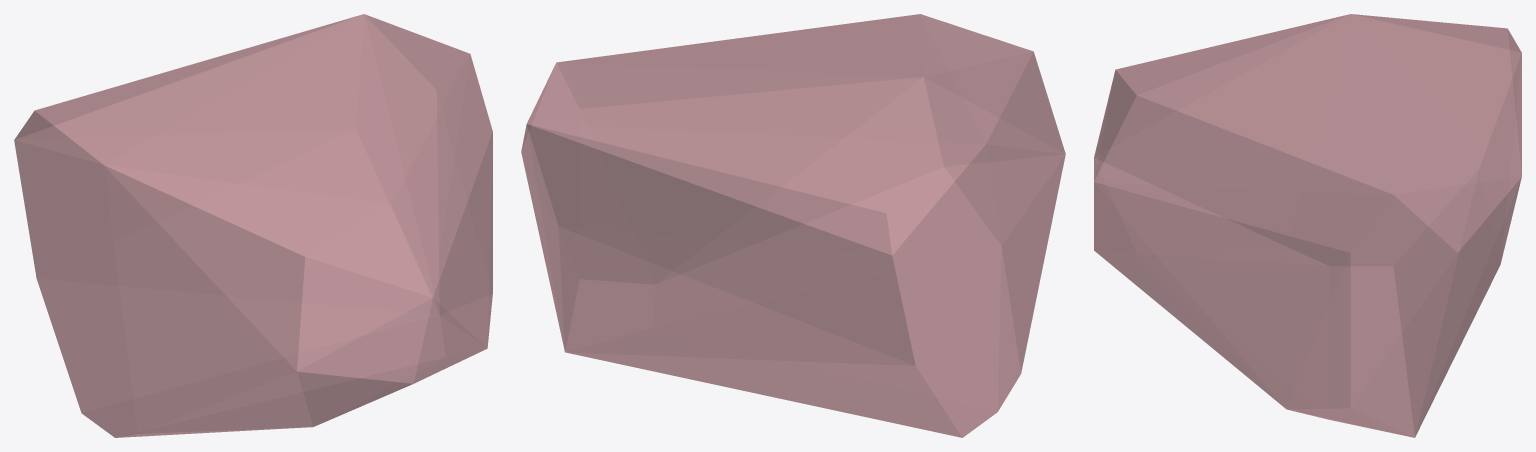
3 views of the same model, side by side, from view 1: azimuth 30°, elevation 25°; view 2: azimuth 150°, elevation 25°; view 3: azimuth 270°, elevation 25° (orthographic). The views are drawn at different scales.
Parts seen in each view (by area): view 1: Shape_IndexedFaceSet.004_Shape_IndexedFaceSet.17566; view 2: Shape_IndexedFaceSet.004_Shape_IndexedFaceSet.17566; view 3: Shape_IndexedFaceSet.004_Shape_IndexedFaceSet.17566.
Part boxes in pixels (x1,y1,x2,y2): Shape_IndexedFaceSet.004_Shape_IndexedFaceSet.17566: (14, 14, 492, 437); Shape_IndexedFaceSet.004_Shape_IndexedFaceSet.17566: (521, 14, 1065, 437); Shape_IndexedFaceSet.004_Shape_IndexedFaceSet.17566: (1094, 14, 1521, 437).
Size of the model in its own units: 0.0809 by 0.0526 by 0.0809.
